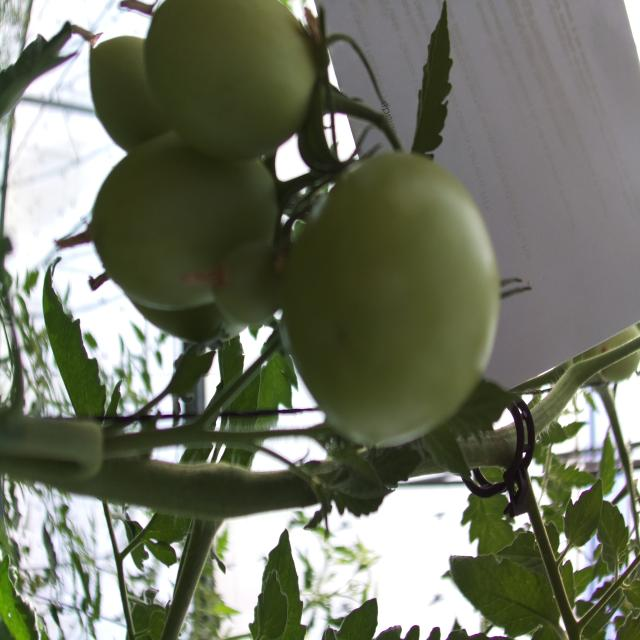unripe tomato: (84, 27, 498, 442)
